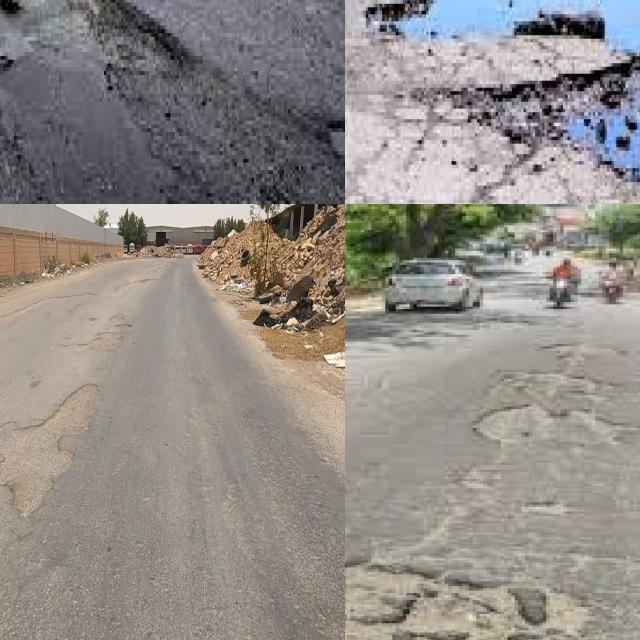Pothole: (0, 384, 98, 517), (382, 584, 472, 640), (539, 588, 592, 637), (62, 333, 123, 353)
